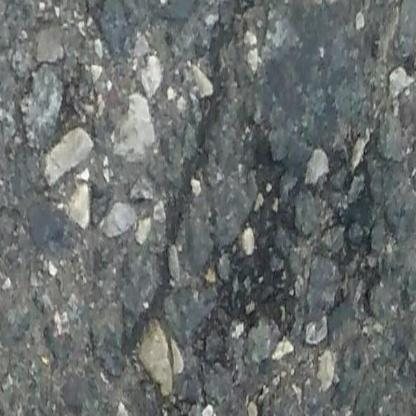Cracks: (120, 0, 260, 369)
